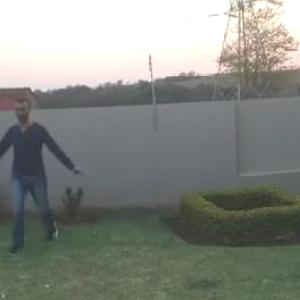land: (1, 109, 80, 254)
